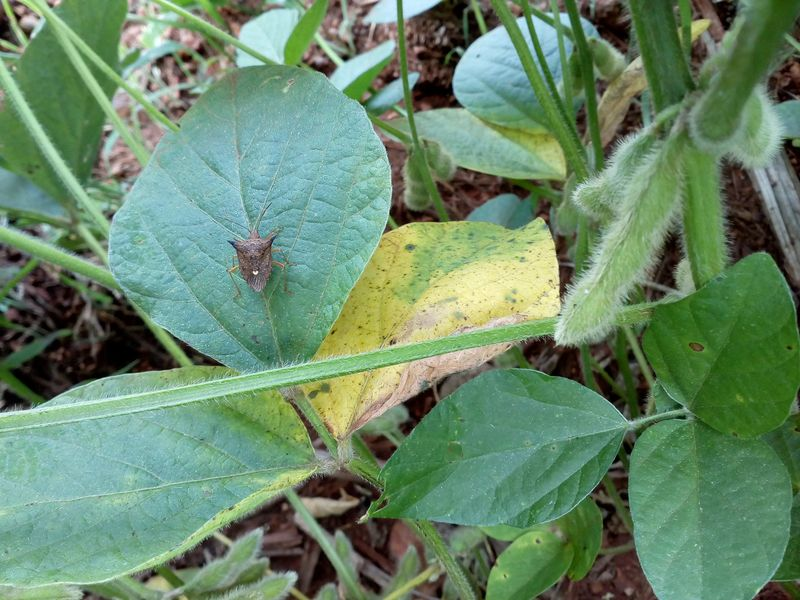Euschistus_heros_adulto: (216, 201, 292, 307)
